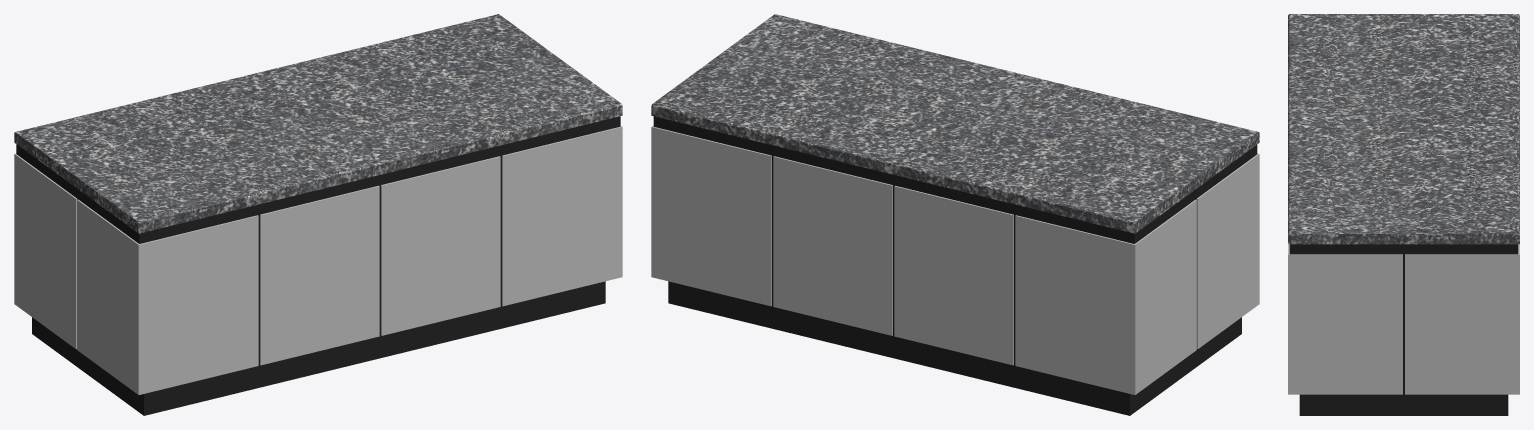
File: LabCountertop.fbx
The picture shows the model from 3 angles, left to right: view 1: azimuth 30°, elevation 25°; view 2: azimuth 150°, elevation 25°; view 3: azimuth 270°, elevation 25°; orthographic projection. The views are drawn at different scales.
Visible parts, largest first — view 1: Counter_Base; view 2: Counter_Base; view 3: Counter_Base.
Part boxes in pixels (x1,y1,x2,y2): Counter_Base: (14, 14, 622, 415); Counter_Base: (651, 14, 1259, 415); Counter_Base: (1288, 14, 1519, 415).
Bounding box in the file's own units: 229 × 90.8 × 102.
